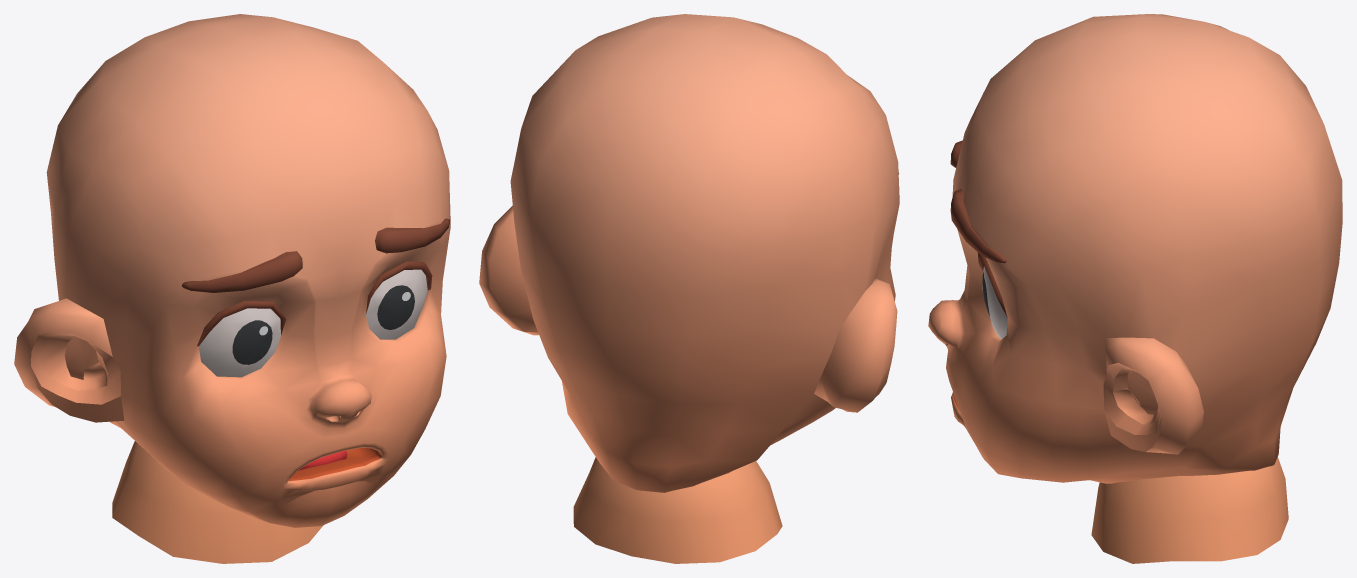
The model's file is Racer_Head_04.fbx.
3 views of the same model, side by side, from view 1: azimuth 30°, elevation 25°; view 2: azimuth 150°, elevation 25°; view 3: azimuth 270°, elevation 25° (orthographic). The views are drawn at different scales.
Parts seen in each view (by area): view 1: Racer_Head_04; view 2: Racer_Head_04; view 3: Racer_Head_04.
Boxes of the visible parts, box(x1,y1,x2,y2) form: Racer_Head_04: box(14, 14, 450, 563); Racer_Head_04: box(479, 14, 899, 563); Racer_Head_04: box(928, 14, 1342, 563).
Size of the model in its own units: 32.13 by 27.76 by 36.95.
